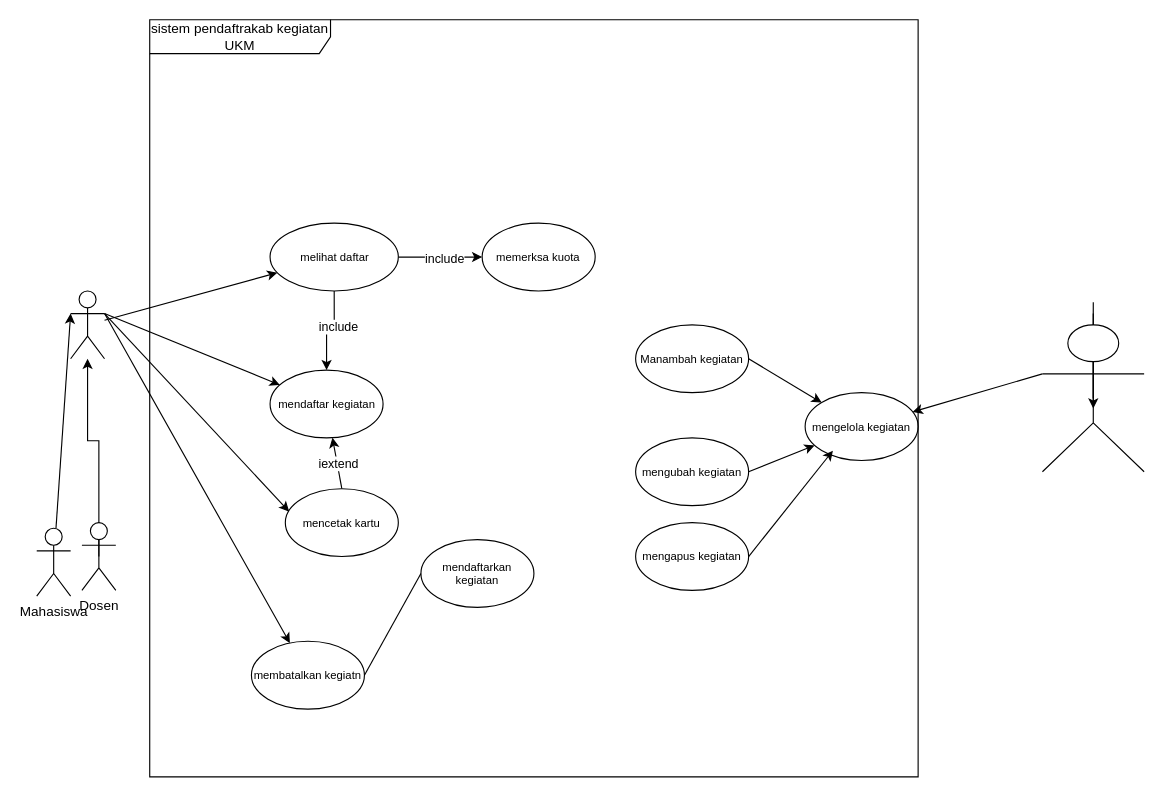
The diagram is 1164 pixels wide and 797 high, and some of its shapes have lost their labels. Here are the shapes that lost their labels. From the top down, the centre of each, then its label:
the point at 87,324: peserta
the point at 1092,398: Pengurus UKM
